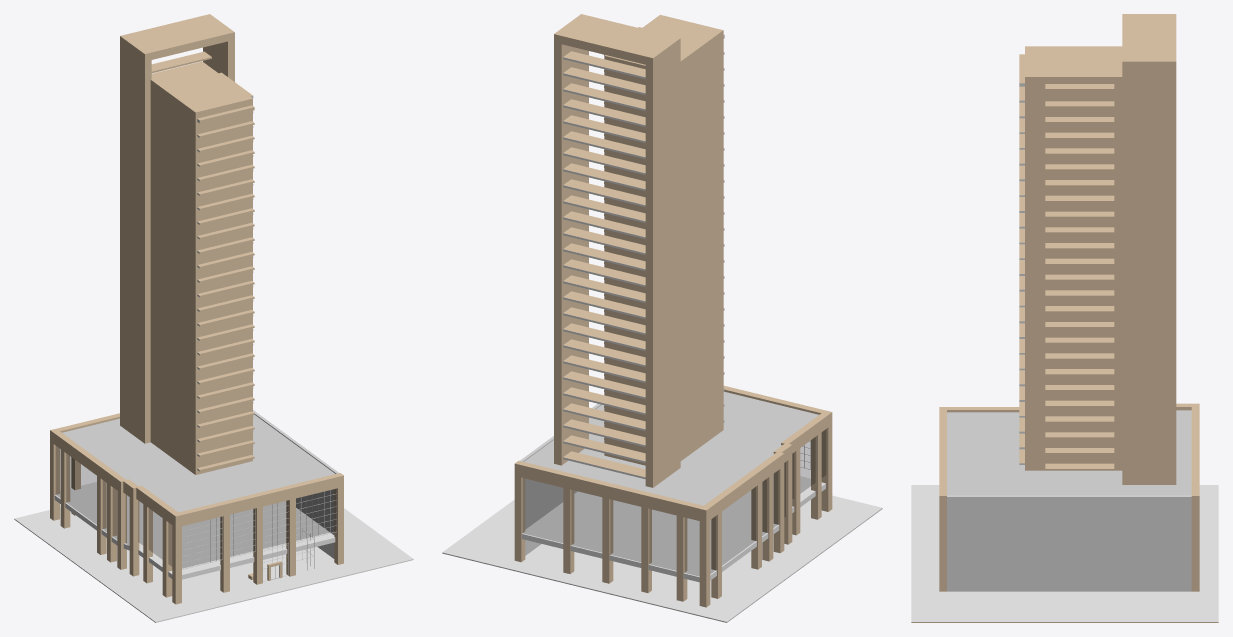
The picture shows the model from 3 angles, left to right: view 1: azimuth 30°, elevation 25°; view 2: azimuth 150°, elevation 25°; view 3: azimuth 270°, elevation 25°; orthographic projection. The views are drawn at different scales.
Visible parts, largest first — view 1: Building; view 2: Building; view 3: Building.
Boxes of the visible parts, left/top/right/bottom form: Building: left=14, top=14, right=413, bottom=622; Building: left=442, top=14, right=882, bottom=622; Building: left=911, top=14, right=1218, bottom=622.
Bounding box in the file's own units: 63.28 × 112 × 60.01.
